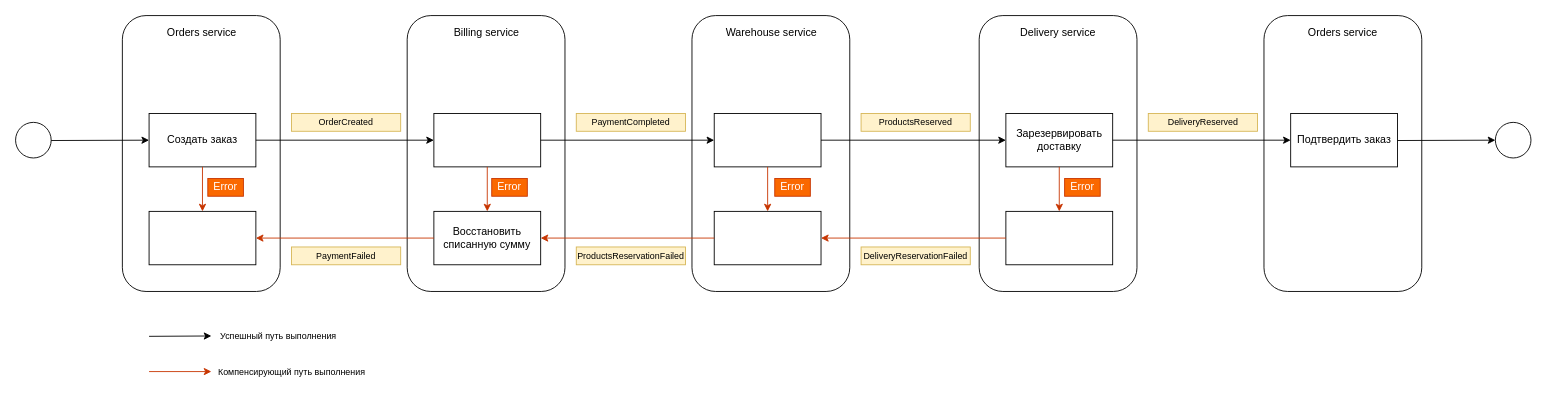
The diagram is 1547 pixels wide and 396 high, and some of its shapes have lost their labels. The centre of each missing label's shape, as x and y in pixels:
End: the point at 1512,139
Start: the point at 33,139
Зарезервировать товар: the point at 767,140
Отклонить заказ: the point at 202,237
Снять доставку с резерва: the point at 1059,237
Снять товар с резерва: the point at 767,237
Списать со счета: the point at 487,140
